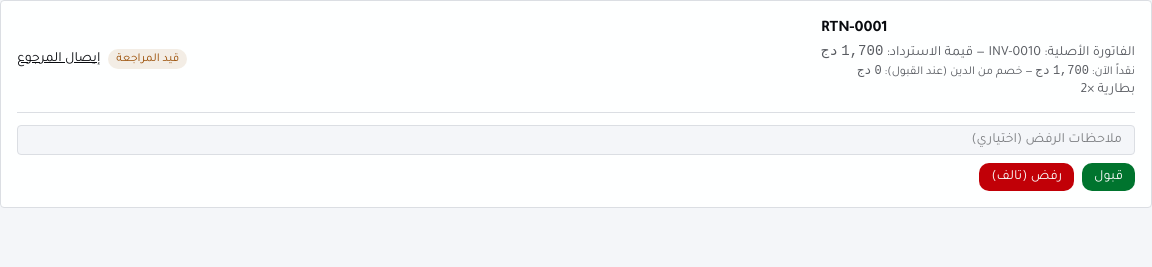
ReturnsReviewList (accept / reject review flow) › surfaces the server refusal when a stale review races the api
Click the button with test id "returns-accept-RTN-0001": (1108, 177) left=1082, top=163, right=1135, bottom=191
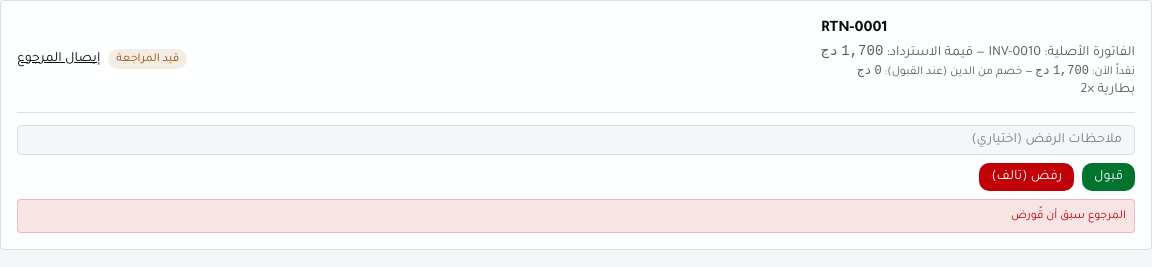
Expected: the message with test id "returns-review-error" reads "المرجوع سبق أن قُورض", left=1011, top=210, right=1126, bottom=222
